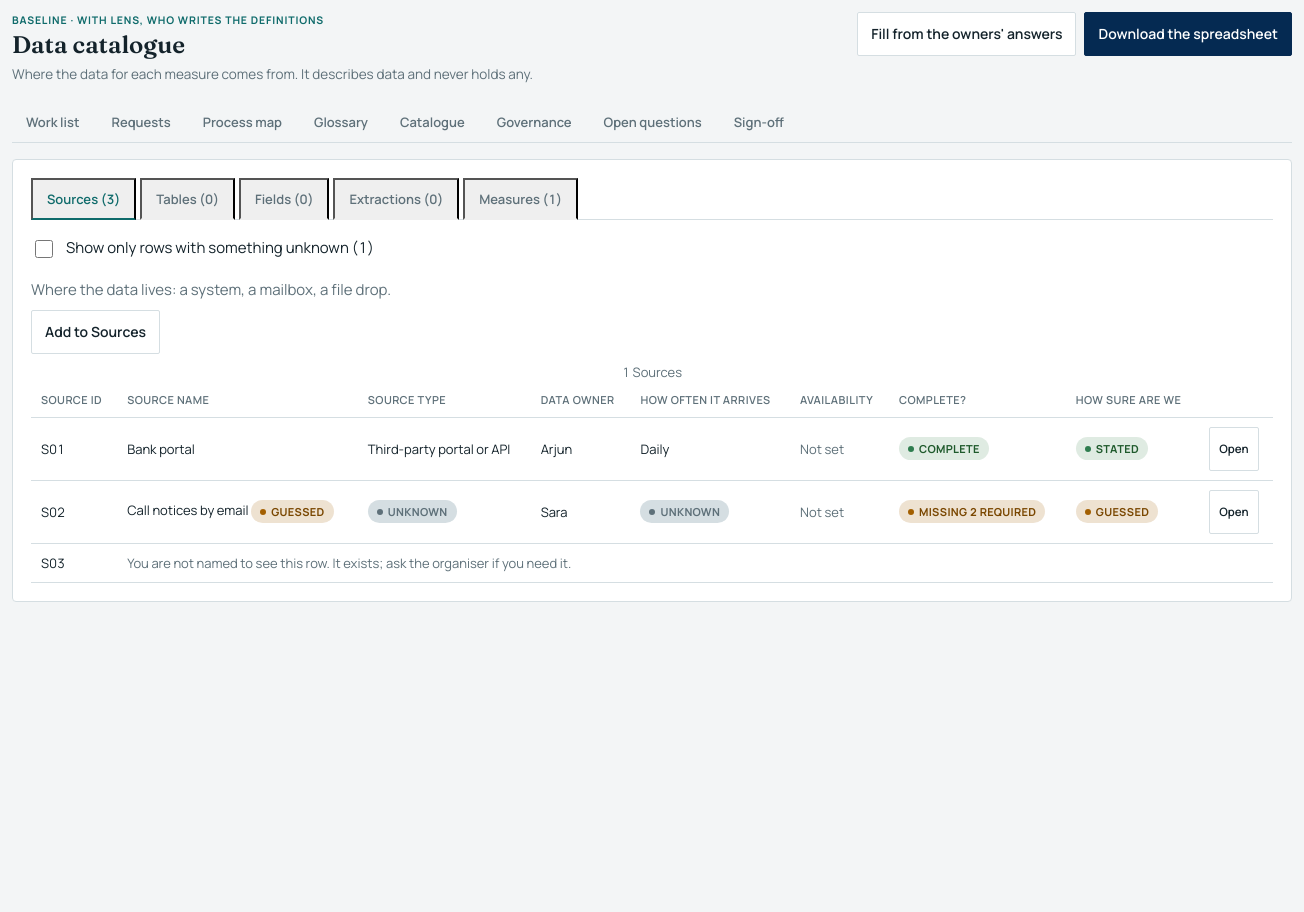
Test case: the catalogue › fills the catalogue from the answers
This screenshot has width=1304, height=912.
Check: the table is shown, box [31,362,1273,583]
What coordinates should you click on to do the following:
click the button "Fill from the owners' answers"
I would click on:
 (967, 34)
Its box is [857,12,1076,56].
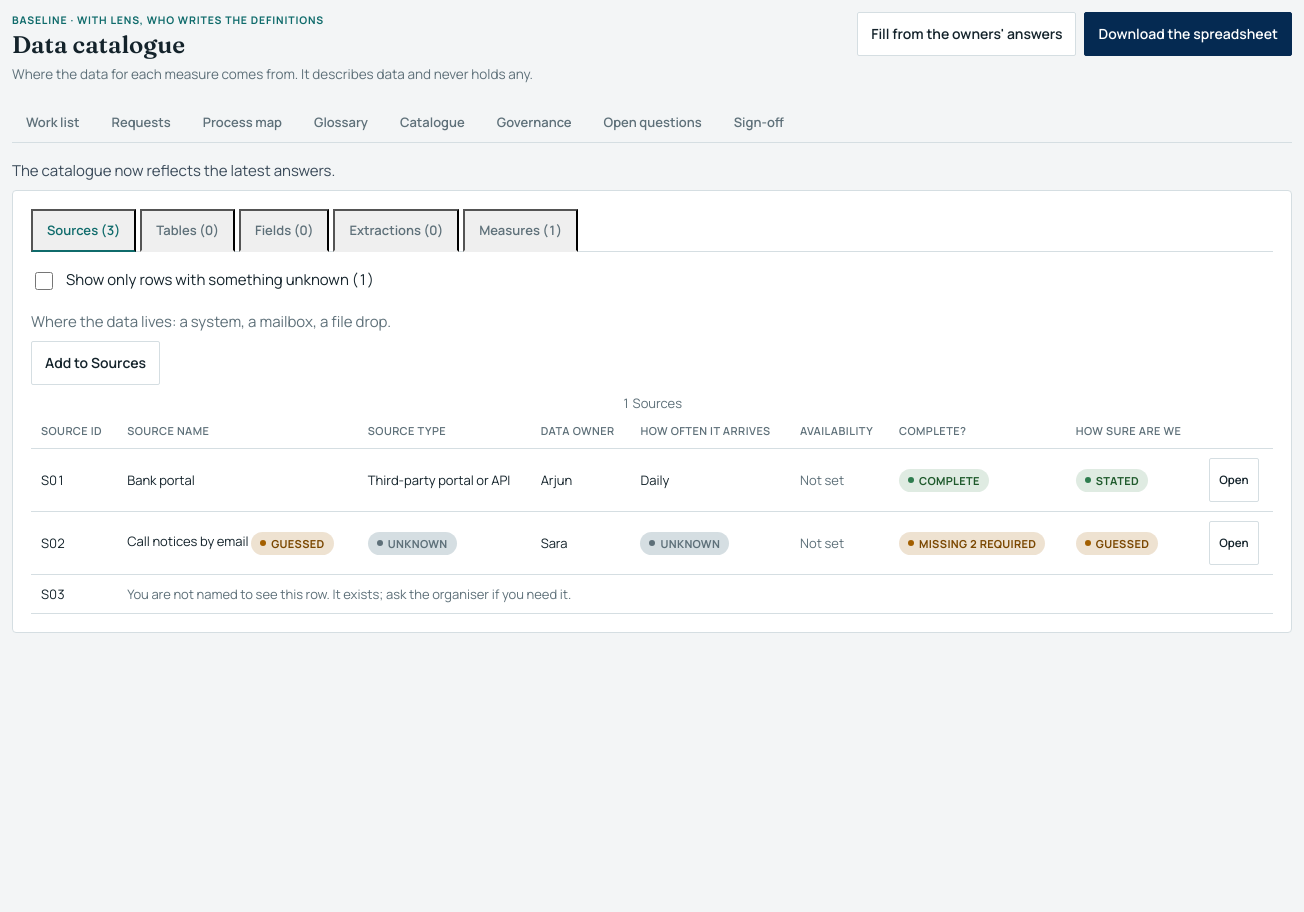
Check: the text "The catalogue now reflects the latest answers." is shown, box [12,160,335,181]
